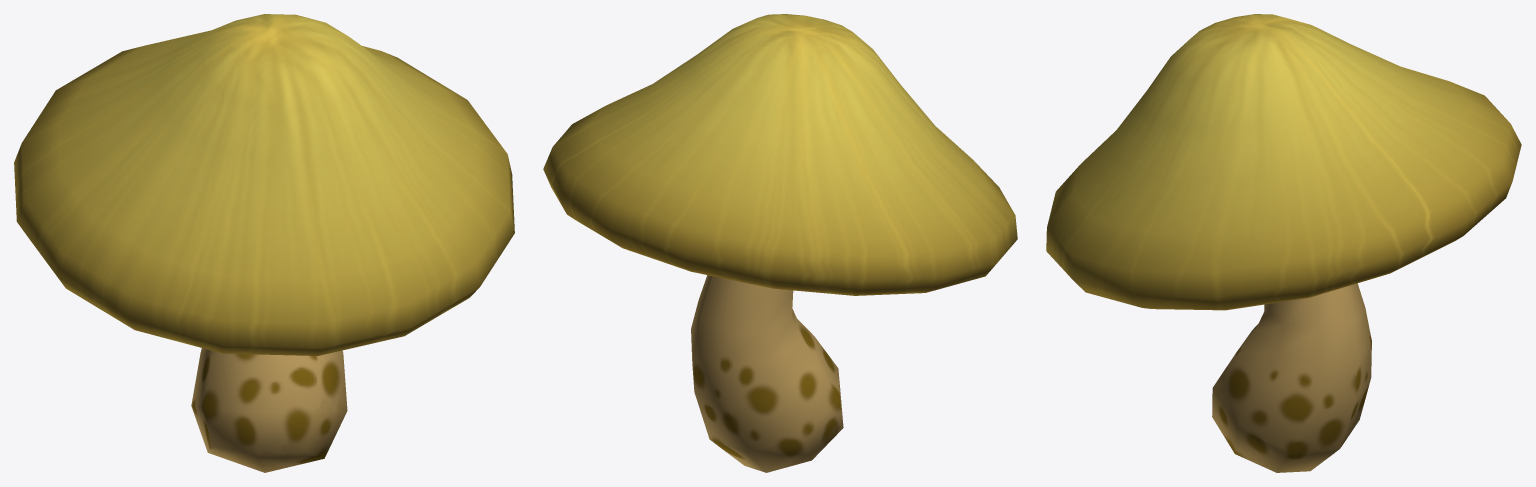
Rendered from Shroom4-optimized.glb.
The picture shows the model from 3 angles, left to right: view 1: azimuth 30°, elevation 25°; view 2: azimuth 150°, elevation 25°; view 3: azimuth 270°, elevation 25°; orthographic projection. The views are drawn at different scales.
Visible parts, largest first — view 1: Vert.020; view 2: Vert.020; view 3: Vert.020.
Part boxes in pixels (<box>): Vert.020: <box>14,14,514,472</box>; Vert.020: <box>543,14,1017,472</box>; Vert.020: <box>1046,14,1521,472</box>.
Size of the model in its own units: 0.9497 by 0.9396 by 0.9334.
Materials: 1 (1 with a texture image).
